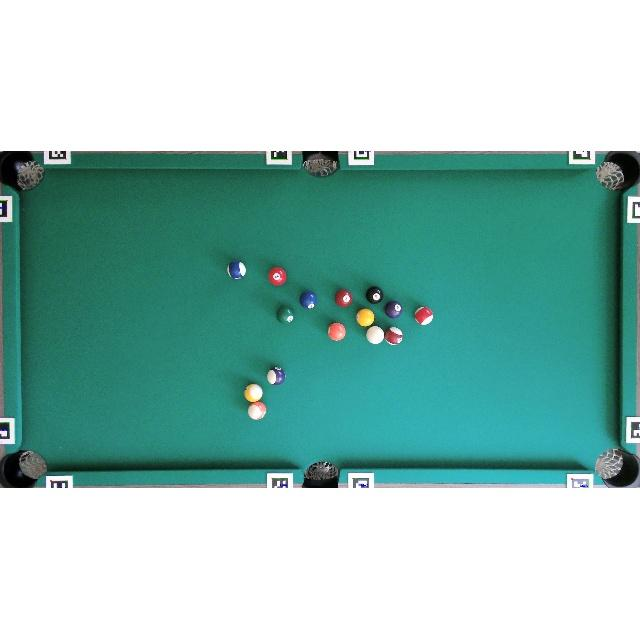cue ball: (366, 326, 384, 344)
other: (244, 383, 264, 403), (267, 266, 287, 286), (327, 322, 346, 342), (299, 290, 318, 310), (227, 260, 246, 280), (247, 402, 266, 421), (356, 308, 375, 327), (414, 307, 434, 325), (267, 367, 286, 385), (335, 289, 353, 308), (276, 306, 294, 324), (385, 327, 403, 345), (366, 286, 383, 304), (385, 301, 402, 318)
